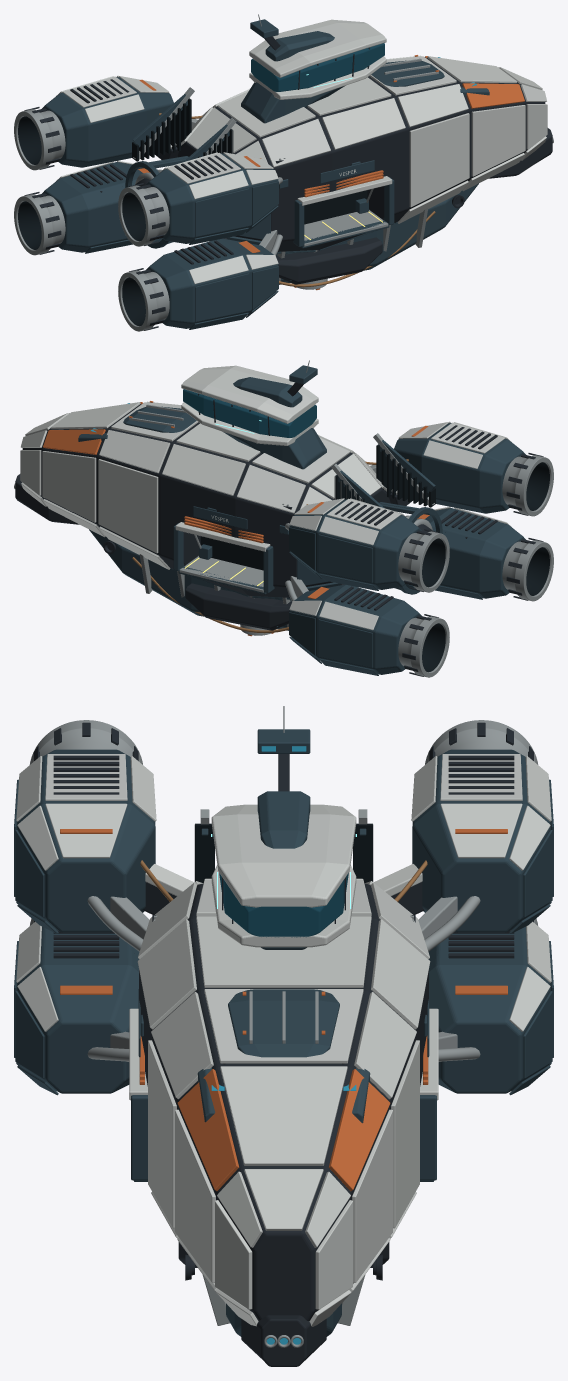
The model's file is vesper.glb.
3 renders of one model, top to bottom at view 1: azimuth 30°, elevation 25°; view 2: azimuth 150°, elevation 25°; view 3: azimuth 270°, elevation 25°, orthographic. The views are drawn at different scales.
Visible parts, largest first — view 1: Pressure hull / compound cross sections, Propulsor 1_1 nacelle, Propulsor 1_-1 nacelle, Hull armor 03_5, Propulsor -1_-1 nacelle, Bridge cantilevered roof, Hull armor 04_5, Ventral service pod, Propulsor -1_1 nacelle, Hull armor 02_6, Bridge panoramic glazing, Ventral keel (+45 smaller); view 2: Pressure hull / compound cross sections, Propulsor -1_1 nacelle, Propulsor -1_-1 nacelle, Hull armor 03_1, Propulsor 1_-1 nacelle, Bridge cantilevered roof, Hull armor 04_1, Ventral service pod.001, Propulsor 1_1 nacelle, Hull armor 02_0, Bridge panoramic glazing, Ventral keel (+44 smaller); view 3: Pressure hull / compound cross sections, Propulsor 1_-1 nacelle, Propulsor -1_-1 nacelle, Bridge cantilevered roof, Hull armor 04_7, Propulsor -1_1 nacelle, Propulsor 1_1 nacelle, Hull armor 02_7, Dorsal access roof, Hull armor 04_1, Hull armor 04_5, Hull armor 03_7 (+51 smaller).
Part boxes in pixels (<box>): Pressure hull / compound cross sections: <box>177,58,545,251</box>; Propulsor 1_1 nacelle: <box>42,77,173,167</box>; Propulsor 1_-1 nacelle: <box>42,162,157,252</box>; Hull armor 03_5: <box>409,113,469,207</box>; Propulsor -1_-1 nacelle: <box>146,238,278,328</box>; Bridge cantilevered roof: <box>249,19,386,77</box>; Hull armor 04_5: <box>471,105,525,176</box>; Ventral service pod: <box>276,237,382,284</box>; Propulsor -1_1 nacelle: <box>146,153,278,243</box>; Hull armor 02_6: <box>322,98,405,149</box>; Bridge panoramic glazing: <box>251,43,384,91</box>; Ventral keel: <box>276,183,478,284</box>; Pressure hull / compound cross sections: <box>22,404,390,597</box>; Propulsor -1_1 nacelle: <box>394,423,525,513</box>; Propulsor -1_-1 nacelle: <box>410,508,525,598</box>; Hull armor 03_1: <box>98,459,158,553</box>; Propulsor 1_-1 nacelle: <box>289,584,421,674</box>; Bridge cantilevered roof: <box>181,365,318,423</box>; Hull armor 04_1: <box>42,451,96,522</box>; Ventral service pod.001: <box>185,583,291,630</box>; Propulsor 1_1 nacelle: <box>289,499,421,589</box>; Hull armor 02_0: <box>162,444,245,495</box>; Bridge panoramic glazing: <box>183,389,316,437</box>; Ventral keel: <box>89,529,291,630</box>; Pressure hull / compound cross sections: <box>139,883,428,1320</box>; Propulsor 1_-1 nacelle: <box>428,926,550,1093</box>; Propulsor -1_-1 nacelle: <box>17,926,139,1093</box>; Bridge cantilevered roof: <box>211,804,356,907</box>; Hull armor 04_7: <box>220,1066,347,1165</box>; Propulsor -1_1 nacelle: <box>17,749,155,932</box>; Propulsor 1_1 nacelle: <box>412,749,550,932</box>; Hull armor 02_7: <box>196,916,371,987</box>; Dorsal access roof: <box>228,989,339,1057</box>; Hull armor 04_1: <box>352,1109,392,1282</box>; Hull armor 04_5: <box>175,1109,215,1282</box>; Hull armor 03_7: <box>204,989,363,1063</box>.
Size of the model in its own units: 156 by 89.42 by 82.
